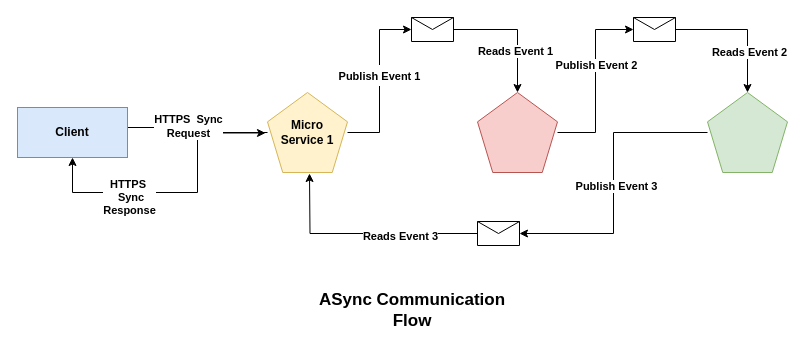
This 805x348 diagram has some shape labels left out. Here are the shapes that lost their labels. From the top down, the box of each, then its label:
(476, 92, 558, 172): Micro Service 2
(706, 92, 788, 172): Micro Service 3
